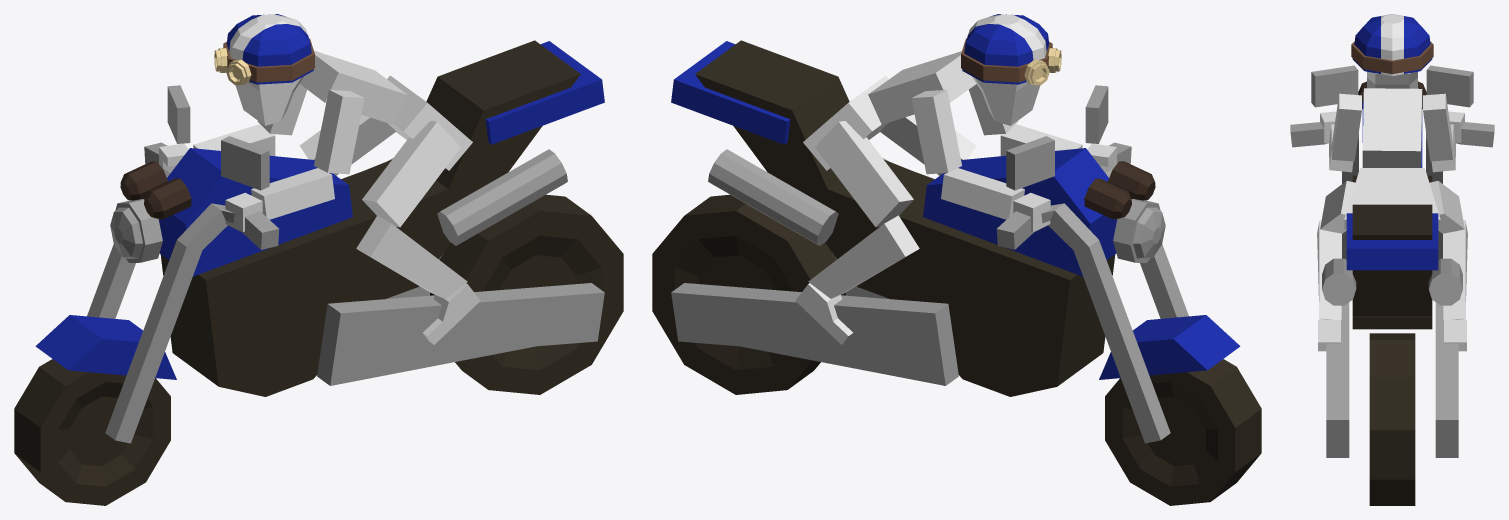
Rendered from FriendsBike-B.fbx.
The picture shows the model from 3 angles, left to right: view 1: azimuth 30°, elevation 25°; view 2: azimuth 150°, elevation 25°; view 3: azimuth 270°, elevation 25°; orthographic projection. The views are drawn at different scales.
Parts seen in each view (by area): view 1: 立方体.014, 立方体.016, 円柱.009, 円柱.008, 立方体.013, 立方体.012, 太もも, 円柱.010, 立方体.018, 後腕, 立方体.015, ふくらはぎ (+13 smaller); view 2: 立方体.014, 立方体.016, 円柱.009, 円柱.008, 立方体.013, 立方体.012, 太もも, 円柱.010, 立方体.018, 後腕, 立方体.015, ふくらはぎ (+13 smaller); view 3: 円柱.009, 立方体.014, 立方体.016, 肋骨, 後腕, 立方体.015, 立方体.017, 腰, ふくらはぎ, 円柱.010, 立方体.013, 太もも (+7 smaller).
Part boxes in pixels (left/top/right/bottom): 立方体.014: left=160, top=40, right=580, bottom=396; 立方体.016: left=317, top=254, right=604, bottom=385; 円柱.009: left=430, top=194, right=623, bottom=394; 円柱.008: left=14, top=359, right=170, bottom=505; 立方体.013: left=87, top=142, right=279, bottom=443; 立方体.012: left=158, top=148, right=352, bottom=276; 太もも: left=299, top=114, right=460, bottom=227; 円柱.010: left=387, top=149, right=567, bottom=245; 立方体.018: left=35, top=315, right=176, bottom=379; 後腕: left=257, top=84, right=364, bottom=174; 立方体.015: left=485, top=41, right=604, bottom=144; ふくらはぎ: left=356, top=215, right=467, bottom=298; 立方体.014: left=695, top=40, right=1115, bottom=396; 立方体.016: left=671, top=254, right=958, bottom=385; 円柱.009: left=652, top=194, right=845, bottom=394; 円柱.008: left=1105, top=359, right=1261, bottom=505; 立方体.013: left=996, top=142, right=1188, bottom=443; 立方体.012: left=923, top=148, right=1117, bottom=276; 太もも: left=815, top=114, right=976, bottom=227; 円柱.010: left=708, top=149, right=888, bottom=245; 立方体.018: left=1099, top=315, right=1240, bottom=379; 後腕: left=911, top=84, right=1018, bottom=174; 立方体.015: left=671, top=41, right=790, bottom=144; ふくらはぎ: left=808, top=215, right=919, bottom=298; 円柱.009: left=1369, top=333, right=1415, bottom=505; 立方体.014: left=1352, top=175, right=1432, bottom=329; 立方体.016: left=1326, top=302, right=1458, bottom=457; 肋骨: left=1362, top=88, right=1422, bottom=167; 後腕: left=1331, top=93, right=1453, bottom=161; 立方体.015: left=1346, top=213, right=1438, bottom=270; 立方体.017: left=1311, top=65, right=1473, bottom=107; 腰: left=1344, top=168, right=1440, bottom=229; ふくらはぎ: left=1317, top=220, right=1467, bottom=321; 円柱.010: left=1322, top=258, right=1462, bottom=305; 立方体.013: left=1290, top=122, right=1494, bottom=259; 太もも: left=1320, top=181, right=1464, bottom=233.
Bounding box in the file's own units: 5108 × 3629 × 1788.
